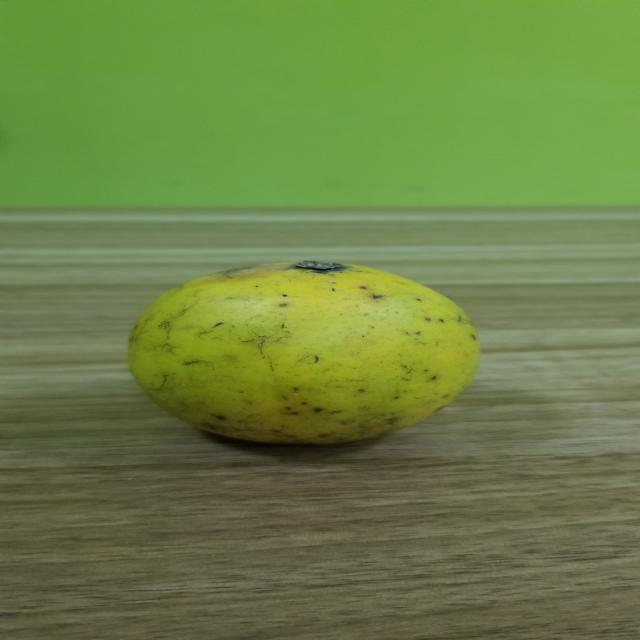Ripe orange: (124, 251, 490, 468)
